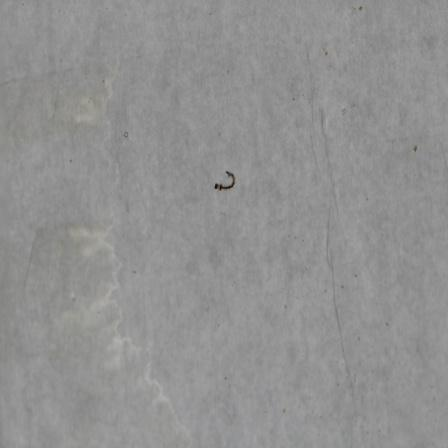Jentik-Nyamuk: (208, 166, 244, 199)
